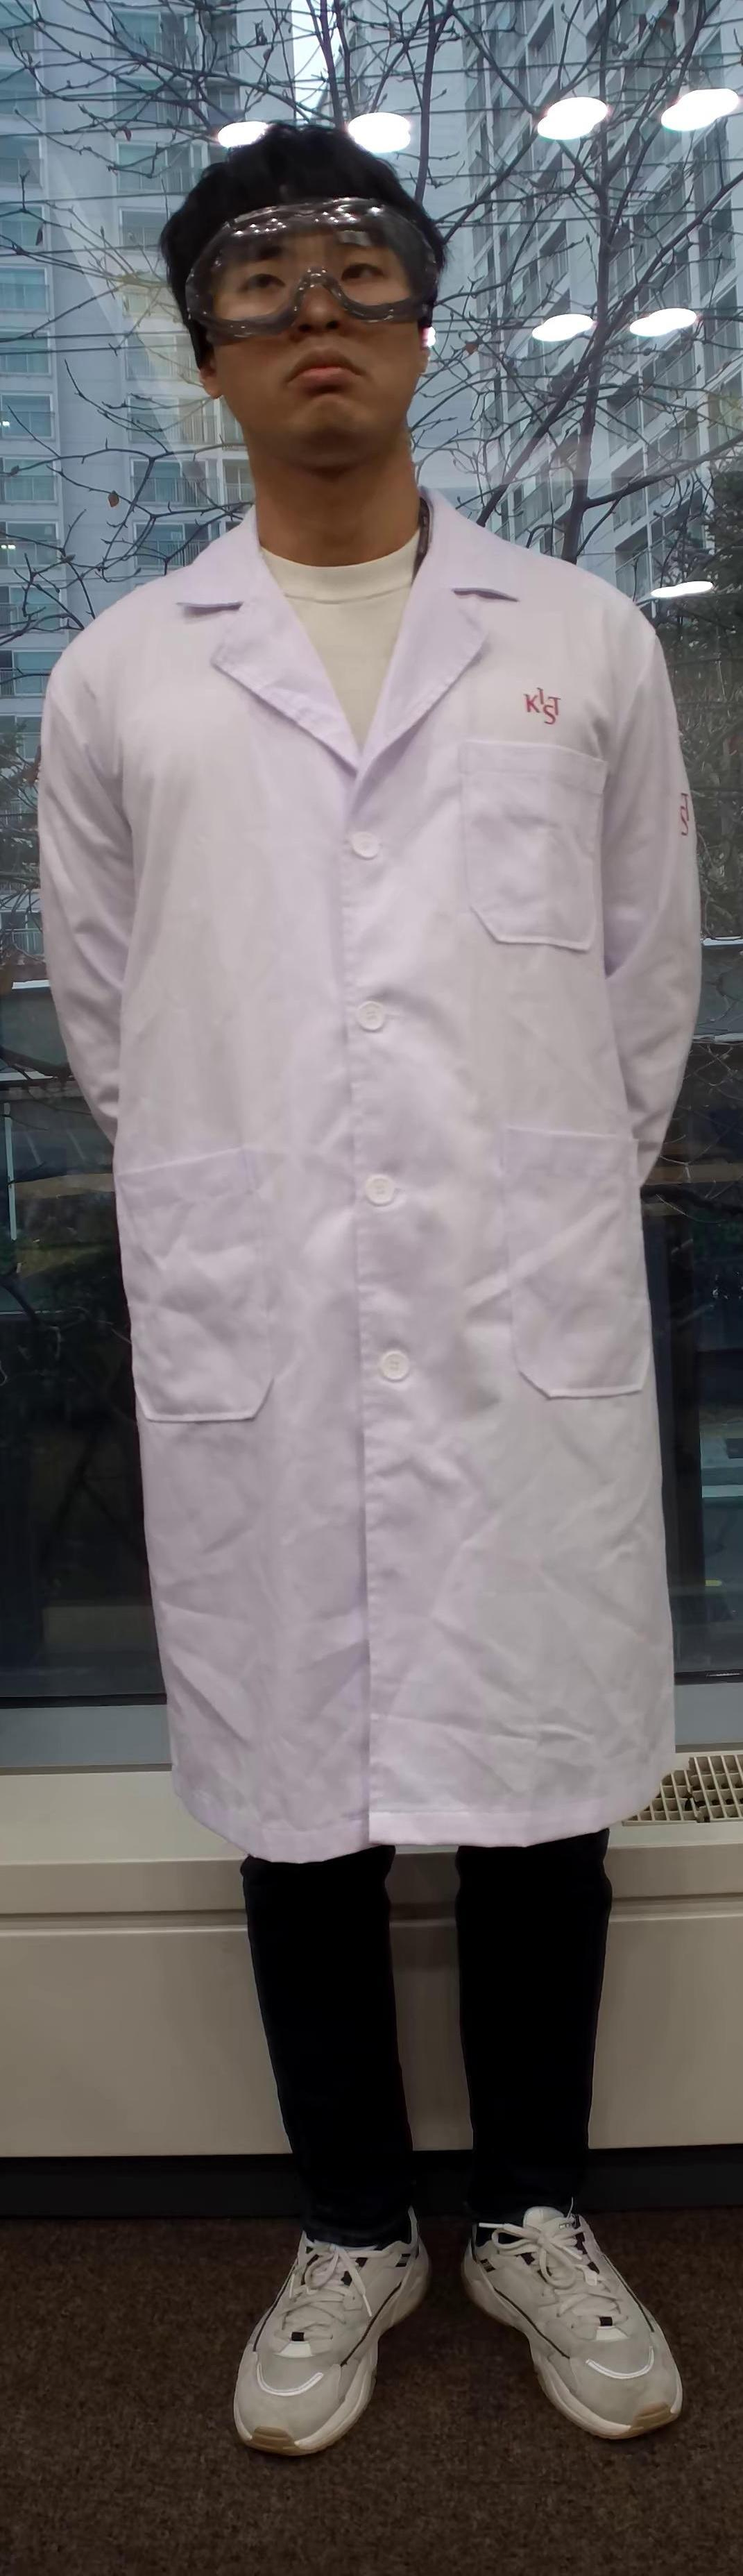lab_coat: (43, 585, 699, 1819)
